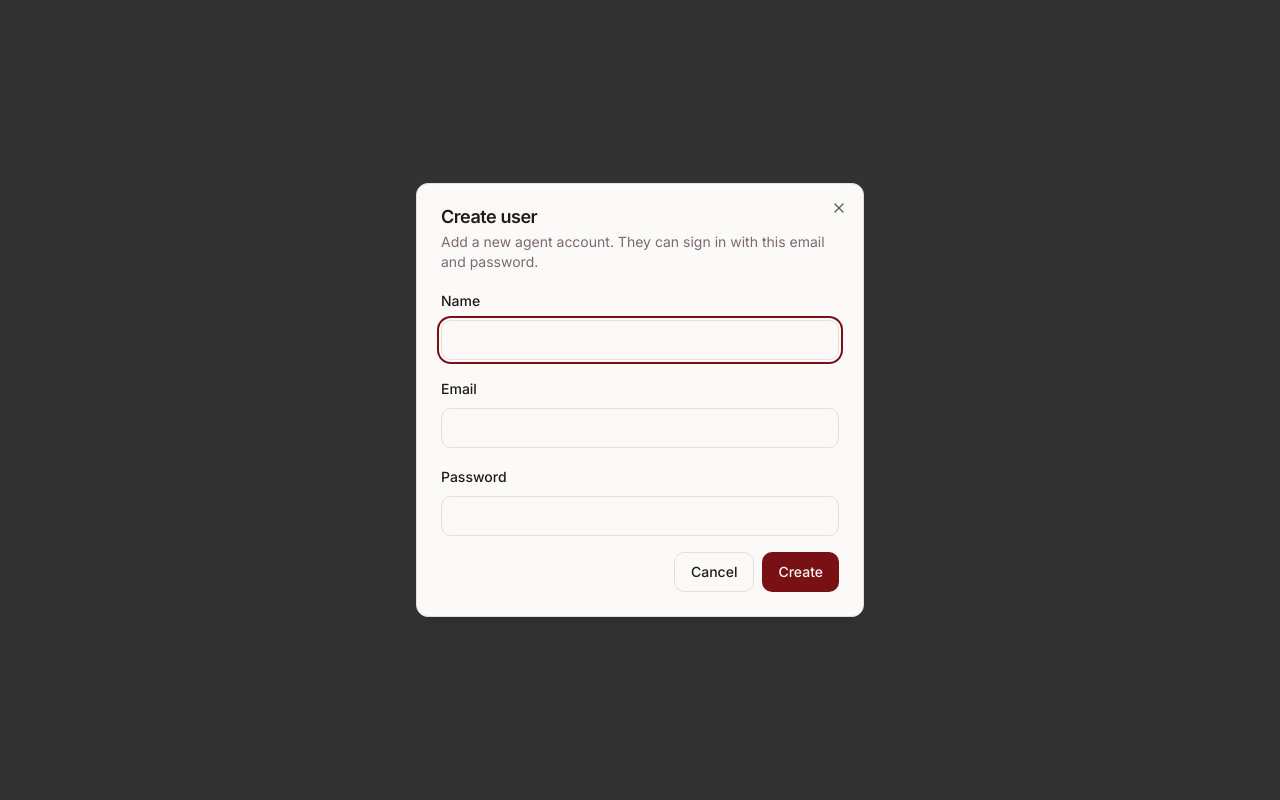
CreateUserDialog › shows Zod validation error when password is too short
Type "Valid Name" into the field labelled "Name".
click(640, 340); type("Valid Name")  # box [441,320,839,360]
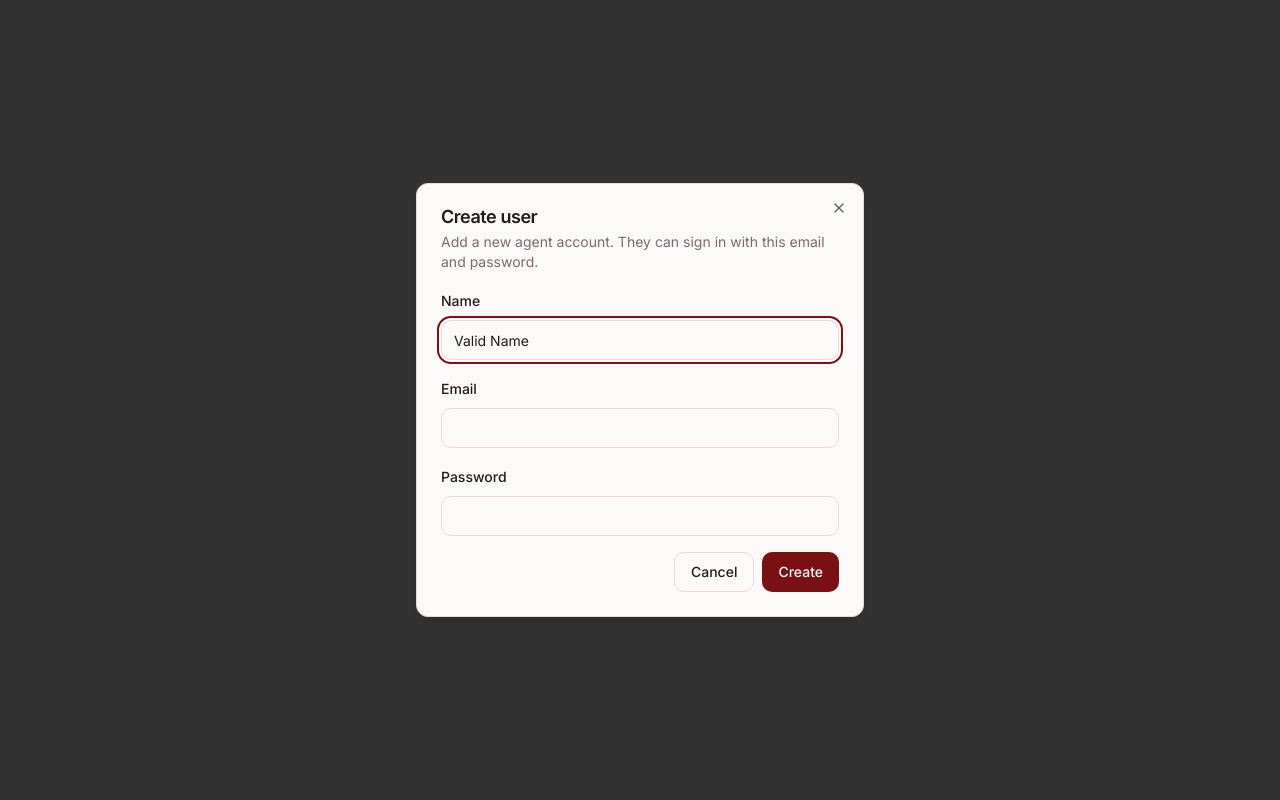
Type "user@example.com" into the field labelled "Email".
click(640, 428); type("user@example.com")  # box [441,408,839,448]
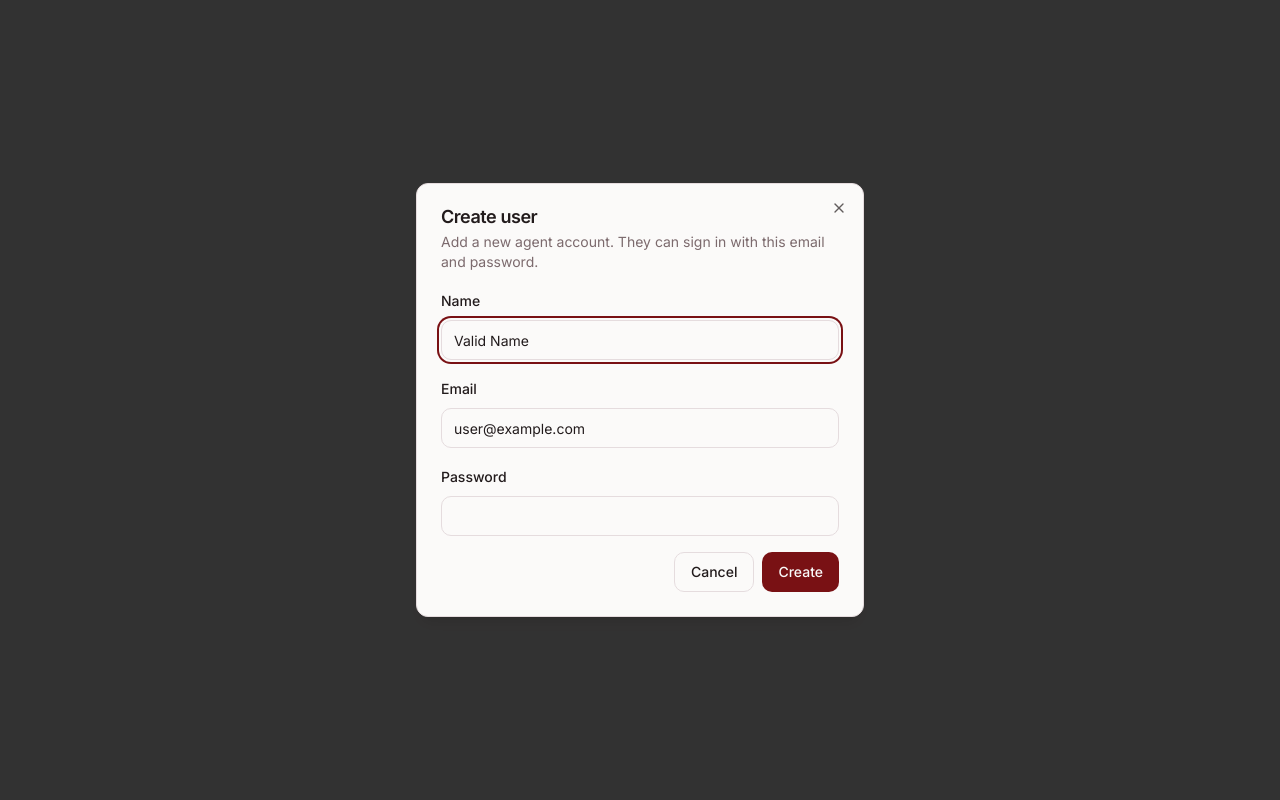
Type "short" into the password field labelled "Password".
click(640, 516); type("short")  # box [441,496,839,536]
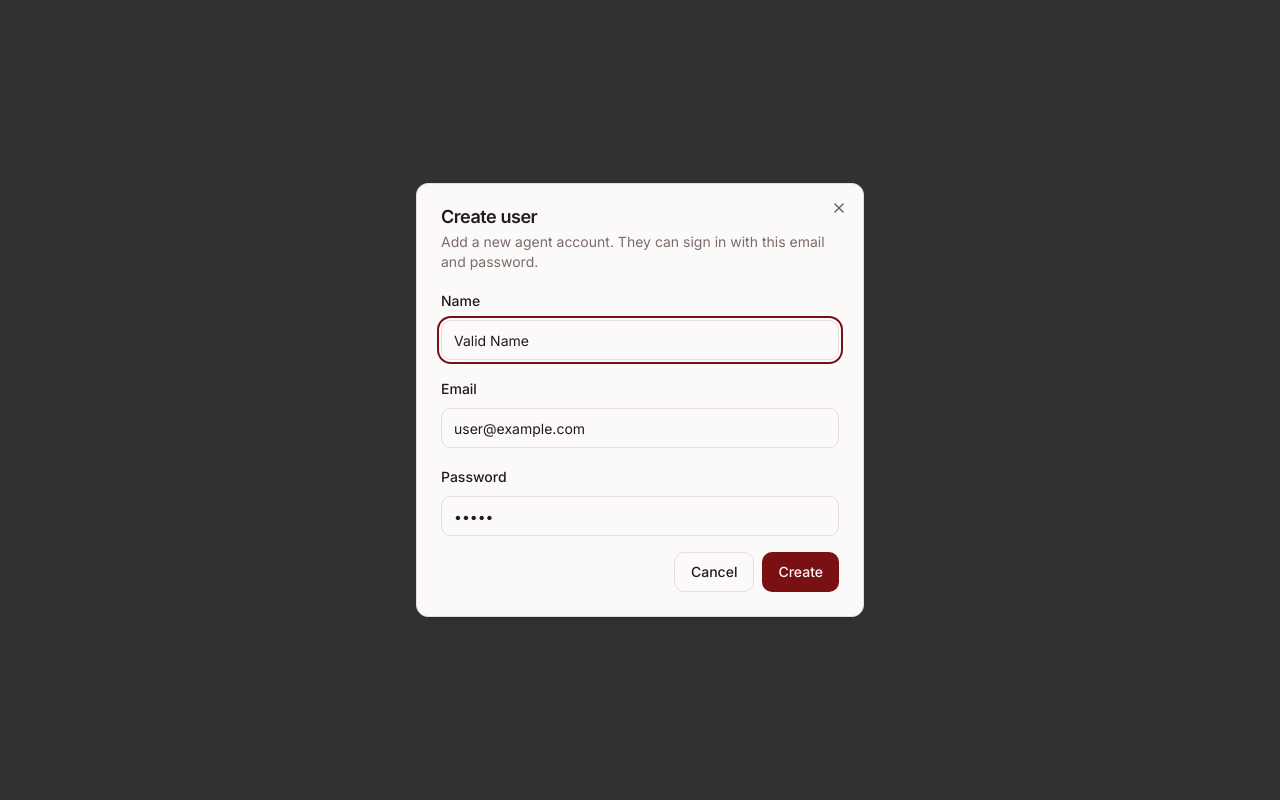
Click the button "Create".
click(801, 572)  # box [762,552,839,592]
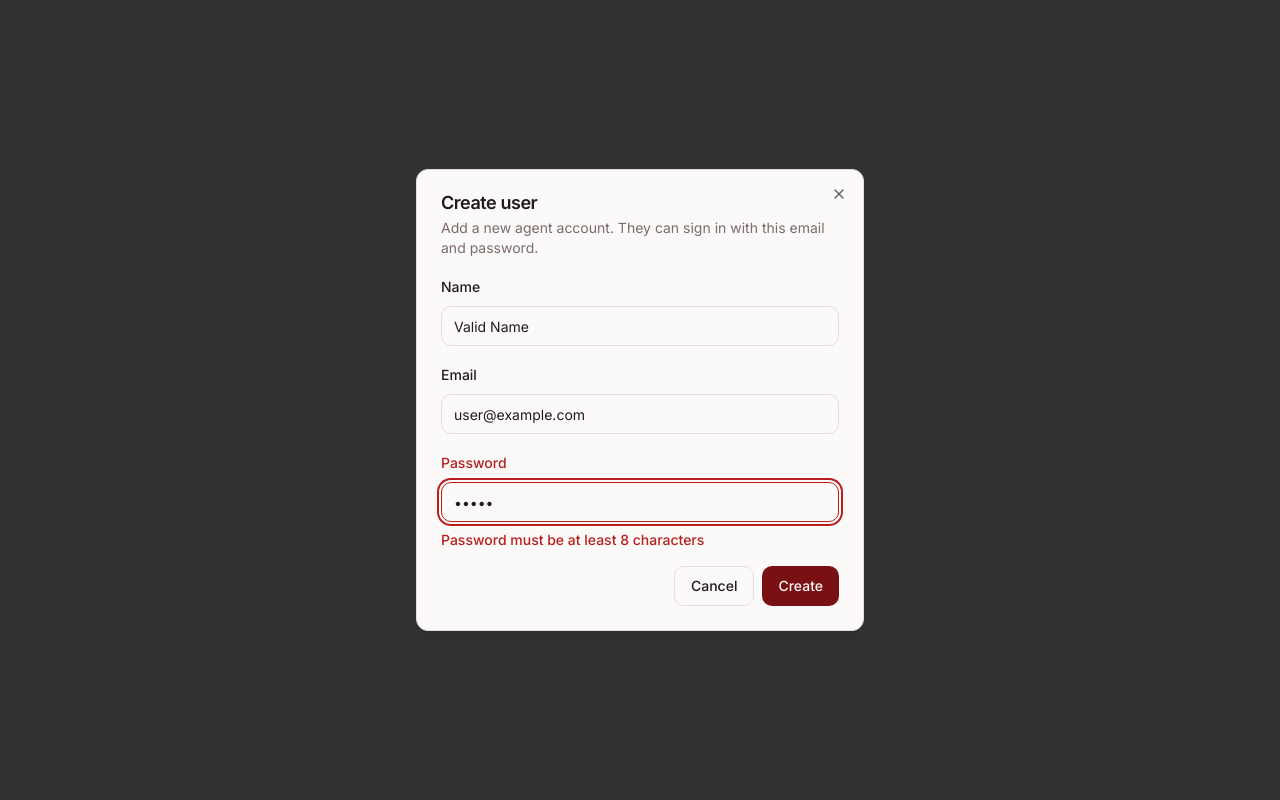
Expected: the text "Password must be at least 8 characters" is shown, [441,531,704,548]
